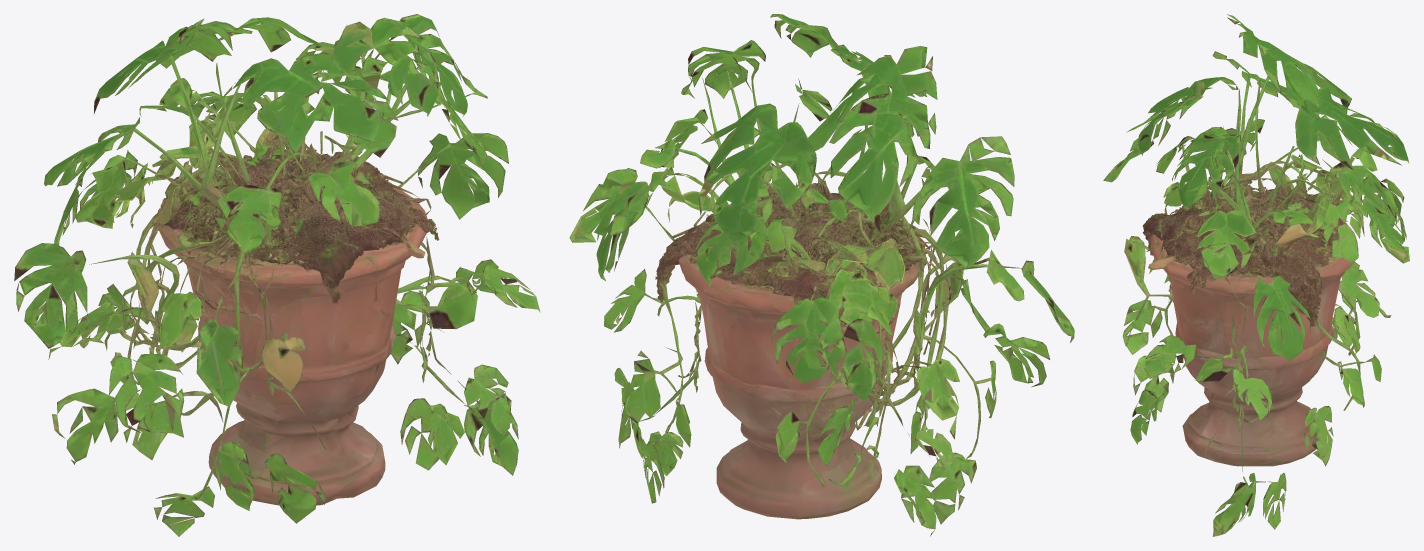
The model's file is plant.glb.
3 views of the same model, side by side, from view 1: azimuth 30°, elevation 25°; view 2: azimuth 150°, elevation 25°; view 3: azimuth 270°, elevation 25° (orthographic). The views are drawn at different scales.
Parts seen in each view (by area): view 1: Mesh_0; view 2: Mesh_0; view 3: Mesh_0.
Boxes of the visible parts, x1,y1,x2,y2 form: Mesh_0: (14, 14, 540, 536); Mesh_0: (569, 14, 1074, 536); Mesh_0: (1103, 14, 1409, 536).
Bounding box in the file's own units: 1.82 × 1.88 × 1.25.
1 material, 1 textured.
